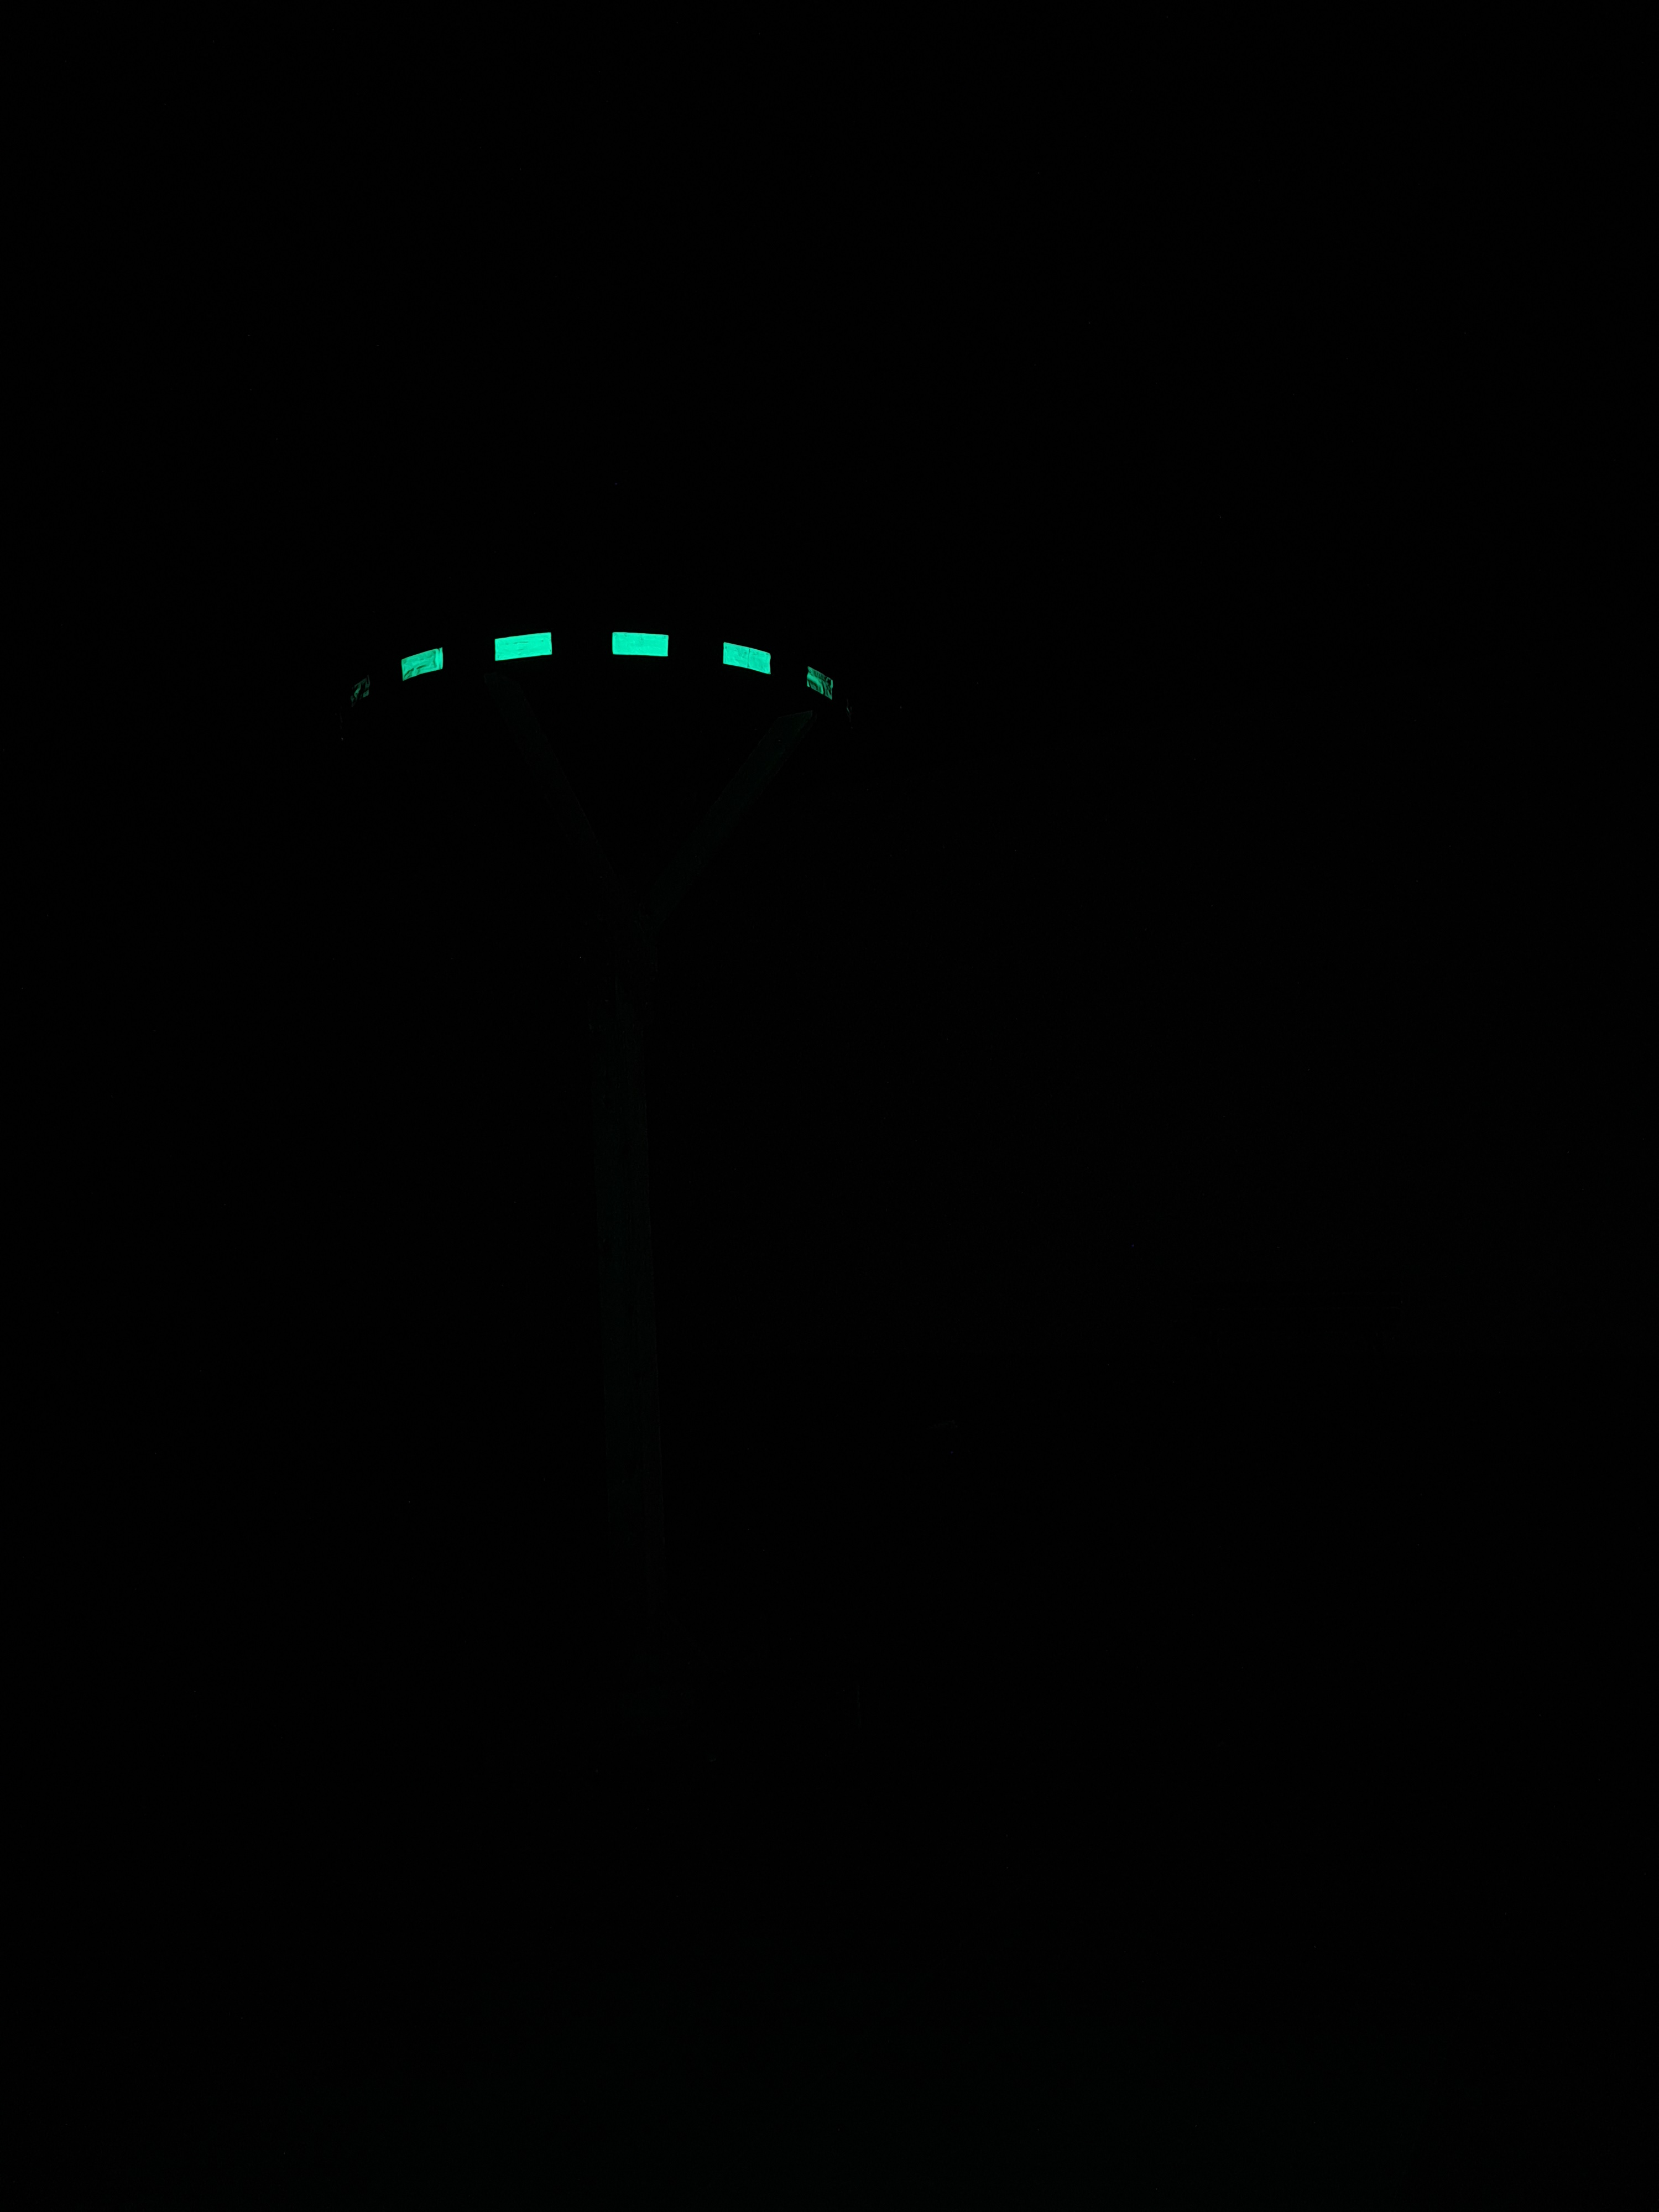hoop: (342, 620, 847, 711)
